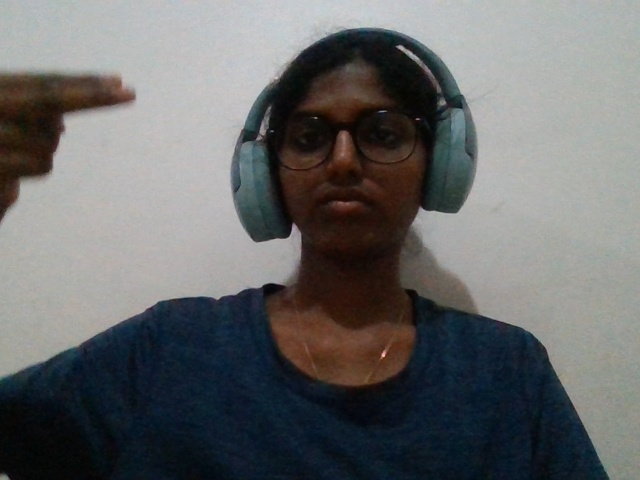H: (2, 54, 147, 241)
